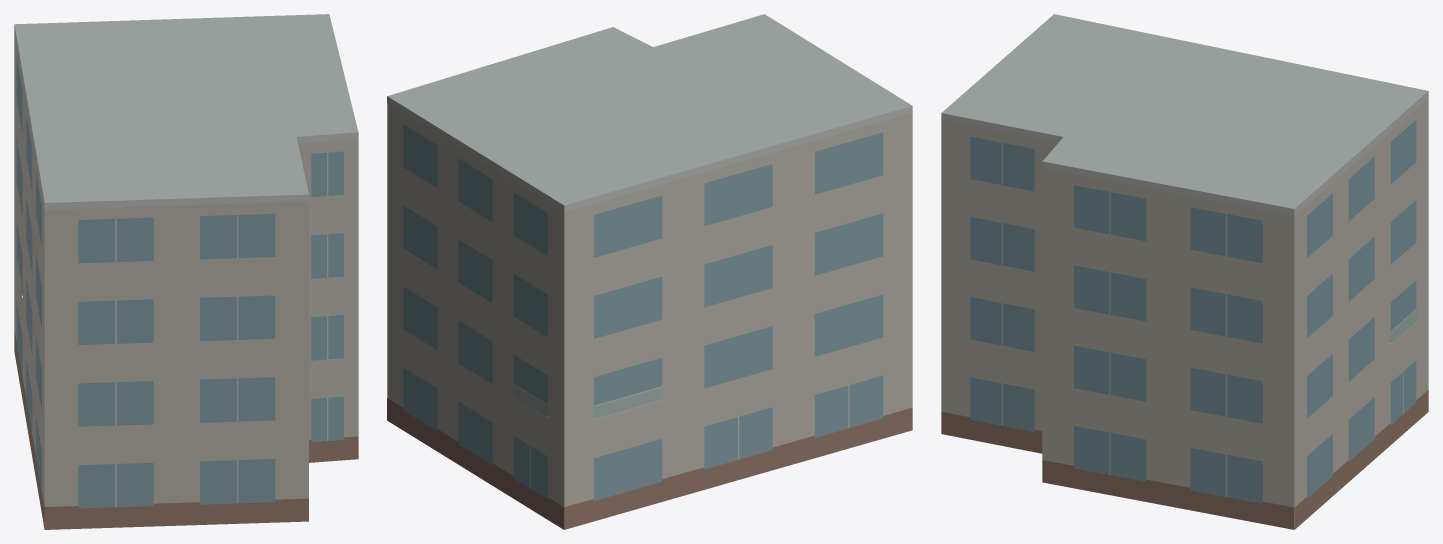
Rendered from survey-upis-33013646.glb.
The picture shows the model from 3 angles, left to right: view 1: azimuth 30°, elevation 25°; view 2: azimuth 150°, elevation 25°; view 3: azimuth 270°, elevation 25°; orthographic projection.
Visible parts, largest first — view 1: survey-upis-33013646.tmp; view 2: survey-upis-33013646.tmp; view 3: survey-upis-33013646.tmp.
Boxes of the visible parts, bbox=[...] form: survey-upis-33013646.tmp: bbox=[14, 14, 358, 529]; survey-upis-33013646.tmp: bbox=[387, 14, 912, 529]; survey-upis-33013646.tmp: bbox=[941, 14, 1428, 529].
Bounding box in the file's own units: 15.52 × 11.9 × 16.39.
